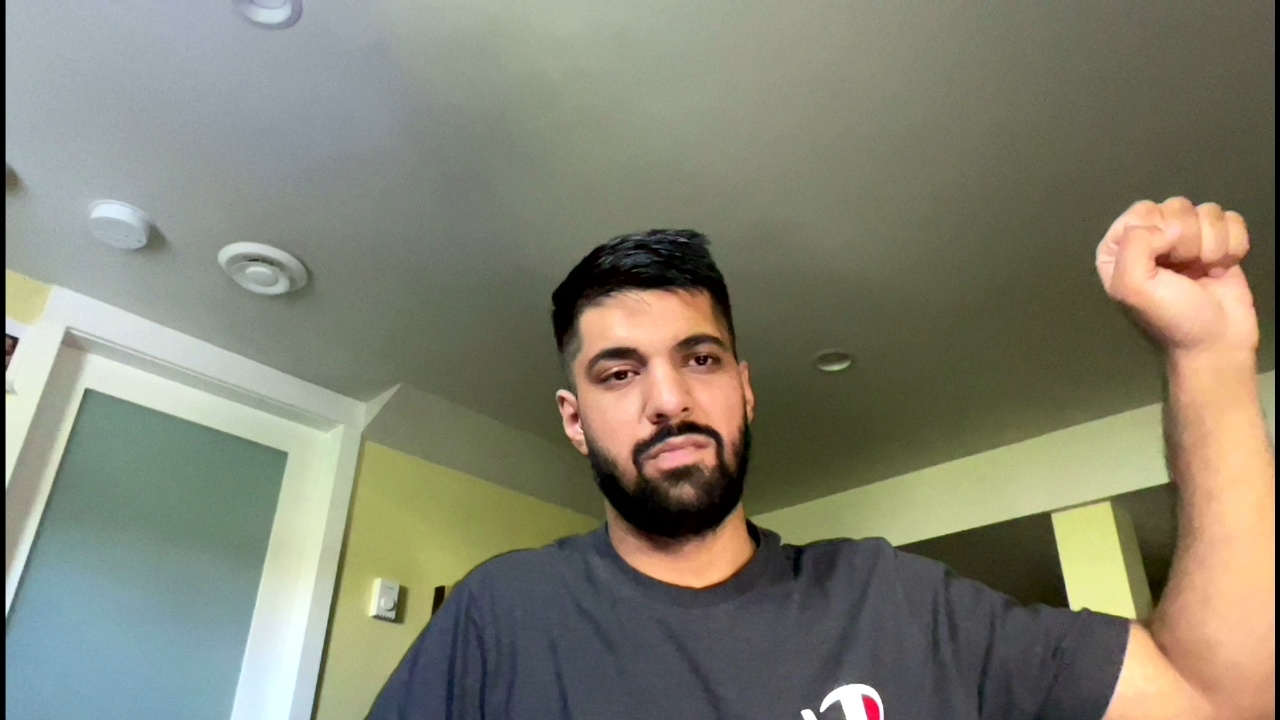No: (1078, 188, 1276, 350)
